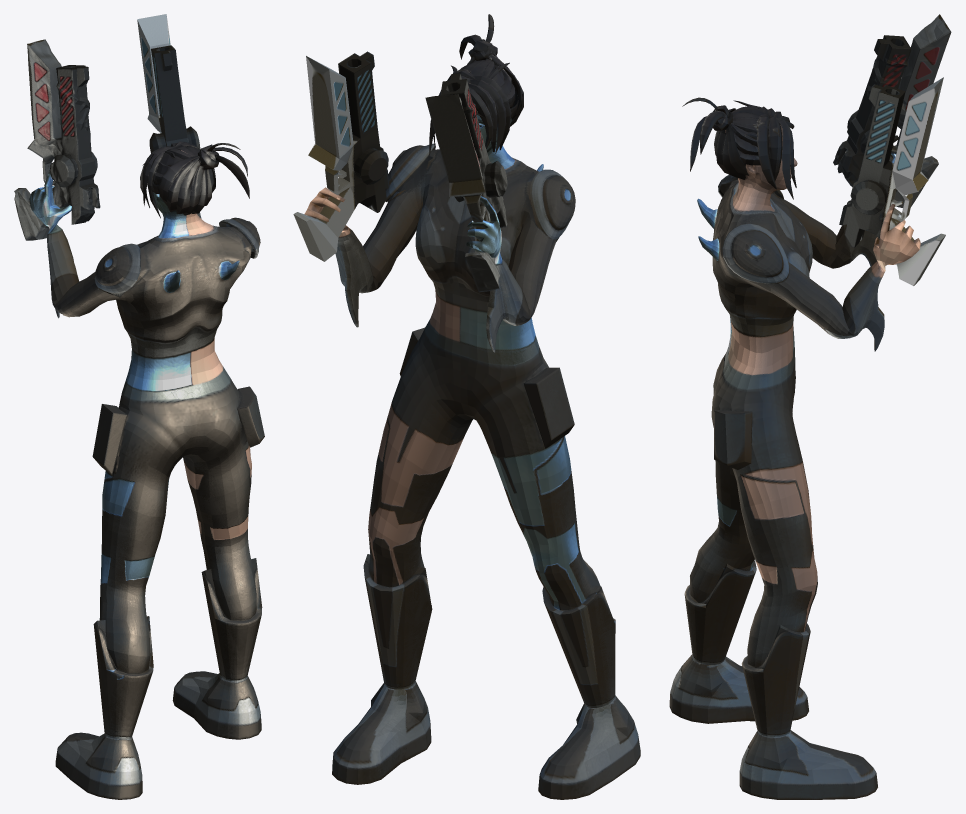
3 views of the same model, side by side, from view 1: azimuth 30°, elevation 25°; view 2: azimuth 150°, elevation 25°; view 3: azimuth 270°, elevation 25° (orthographic). The views are drawn at different scales.
Visible parts, largest first — view 1: Dex_LOW_Plane.001; view 2: Dex_LOW_Plane.001; view 3: Dex_LOW_Plane.001.
Boxes of the visible parts, x1,y1,x2,y2 form: Dex_LOW_Plane.001: [14, 14, 264, 799]; Dex_LOW_Plane.001: [293, 14, 640, 799]; Dex_LOW_Plane.001: [669, 14, 951, 799].
Size of the model in its own units: 1.63 by 5.08 by 1.83.
